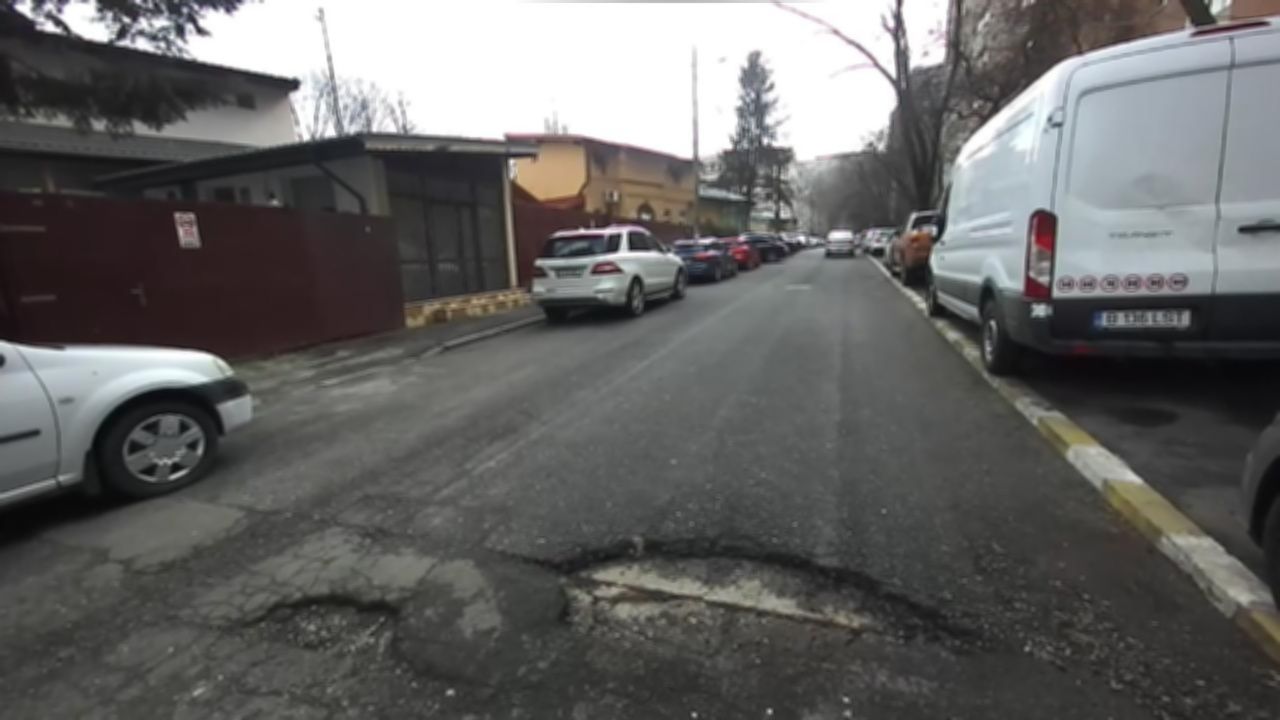pothole: (521, 526, 1003, 667), (214, 589, 425, 682)
